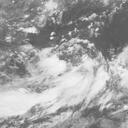cyclone: (43, 55, 69, 78)
